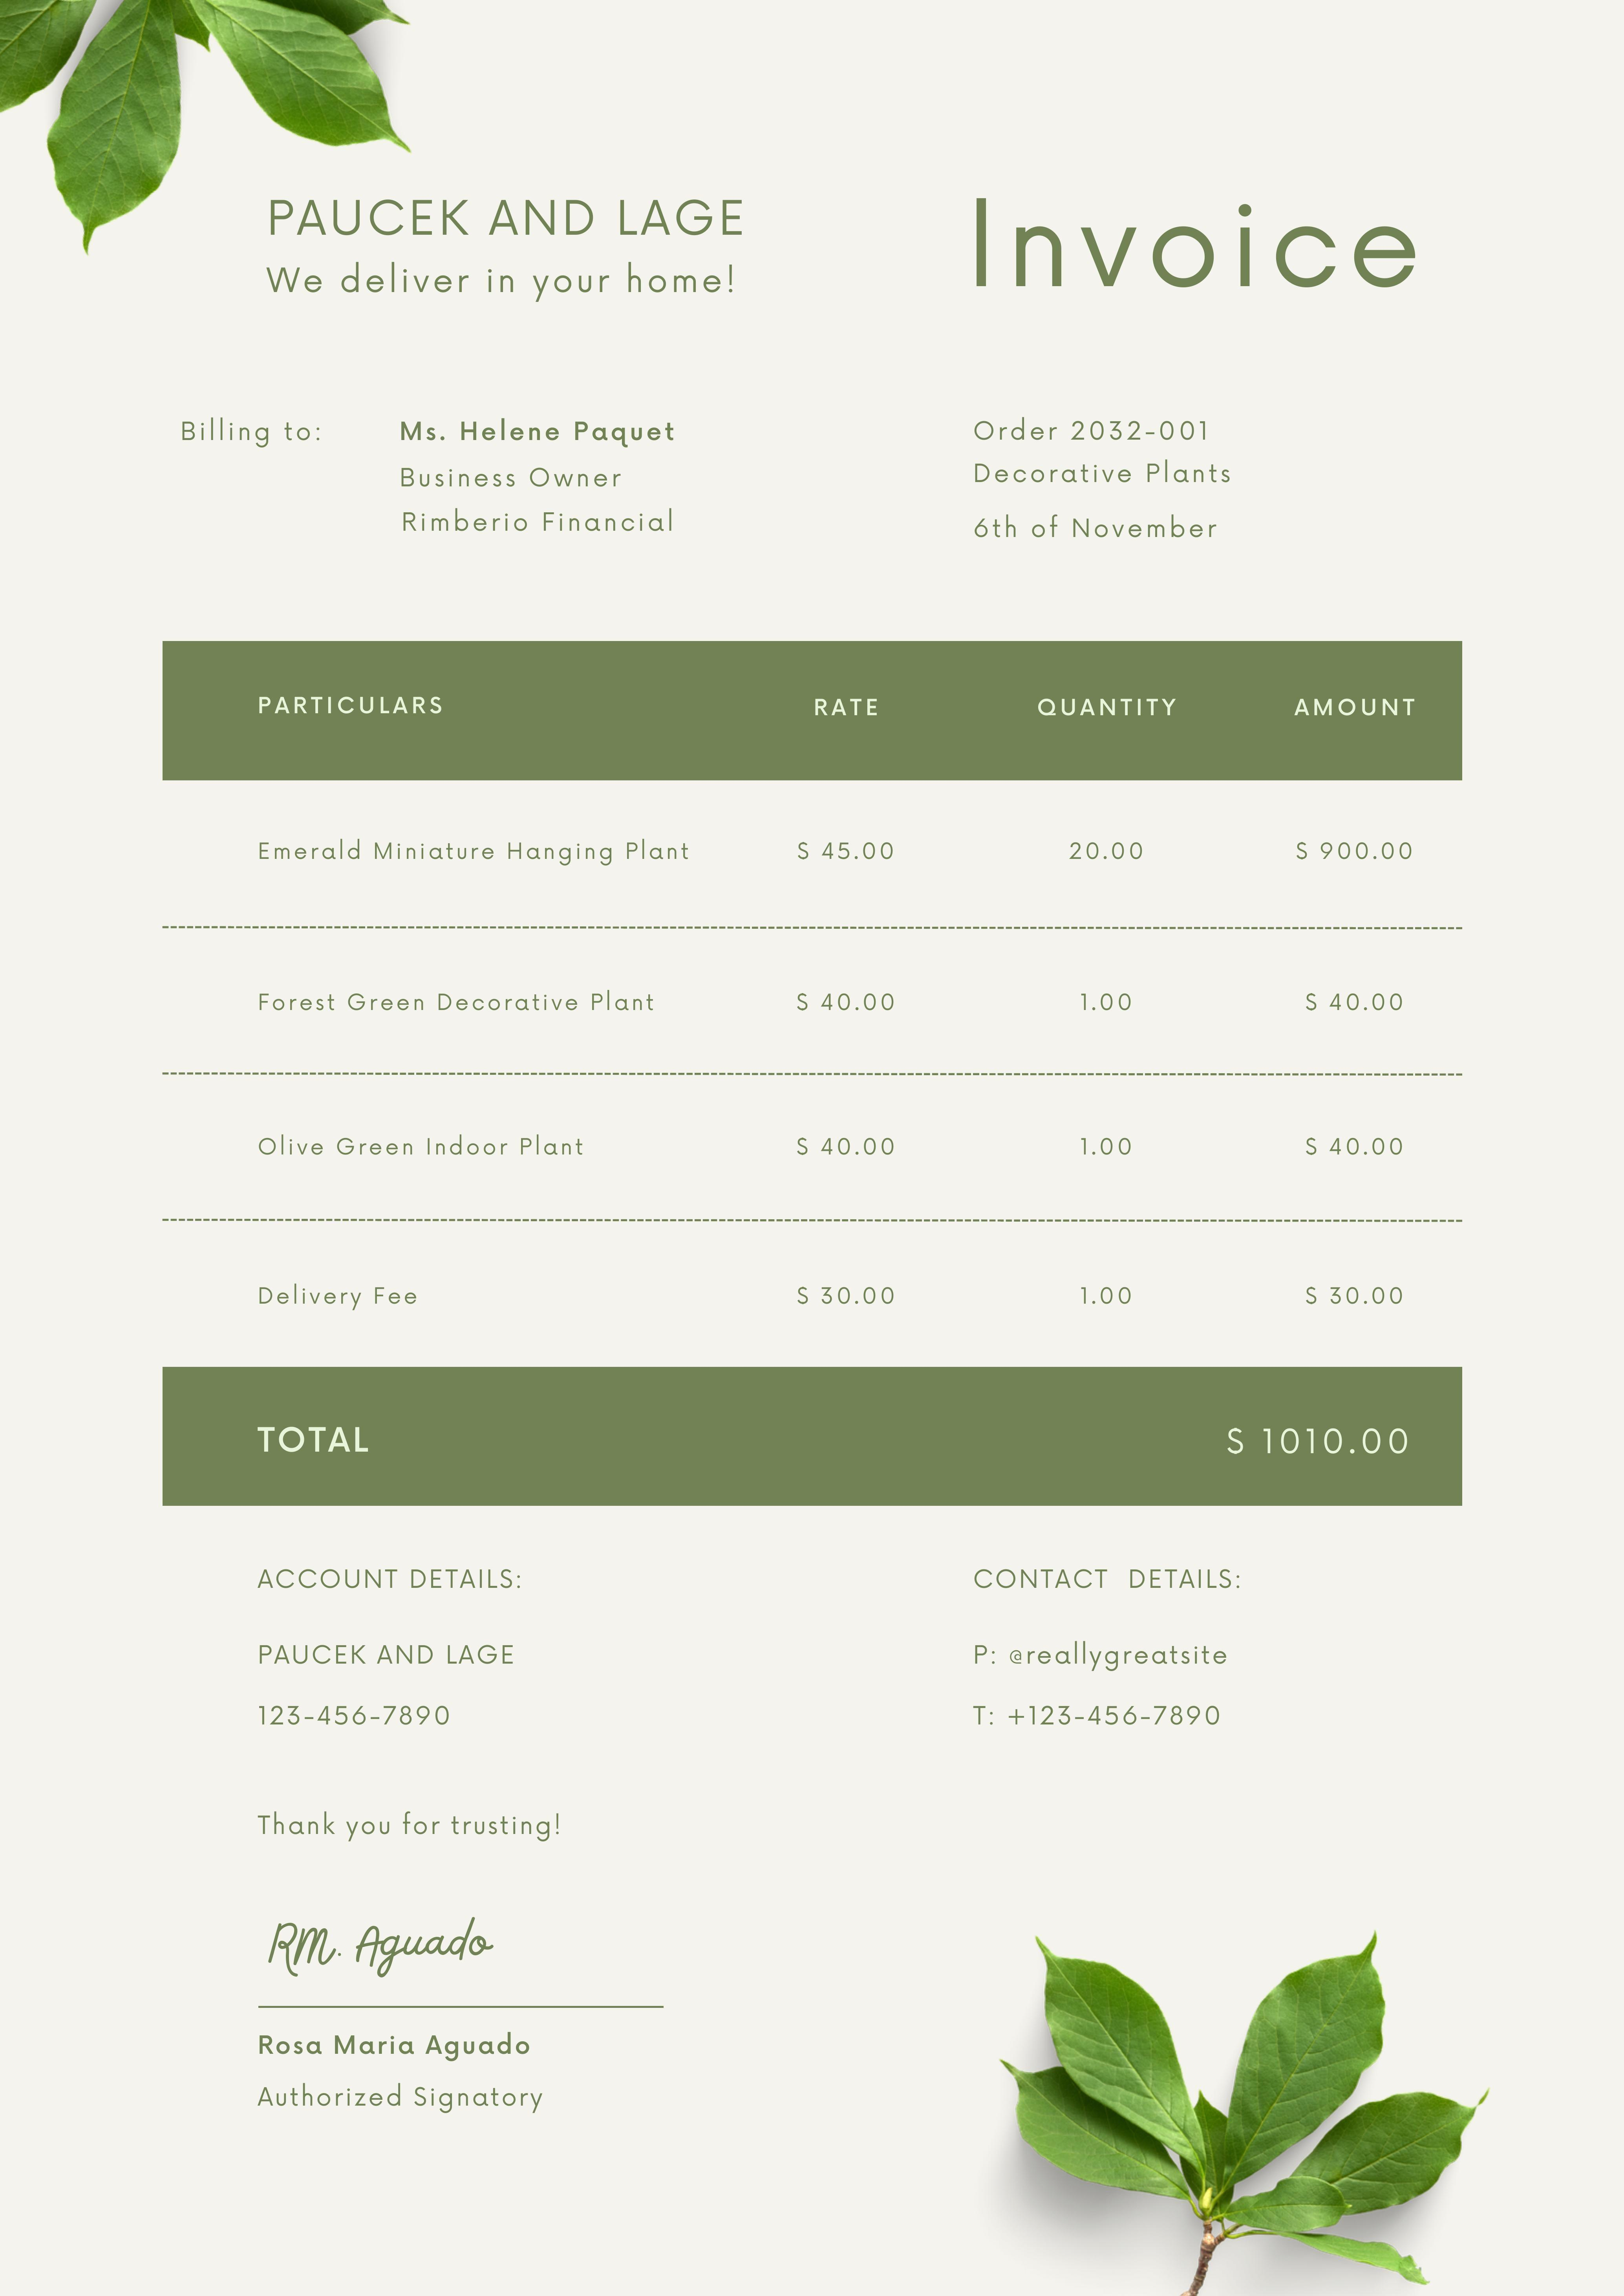ROI: (165, 673, 1441, 1342), (214, 1388, 1427, 1486), (230, 1553, 689, 1764), (221, 158, 784, 323), (170, 411, 701, 546), (960, 367, 1292, 576)
